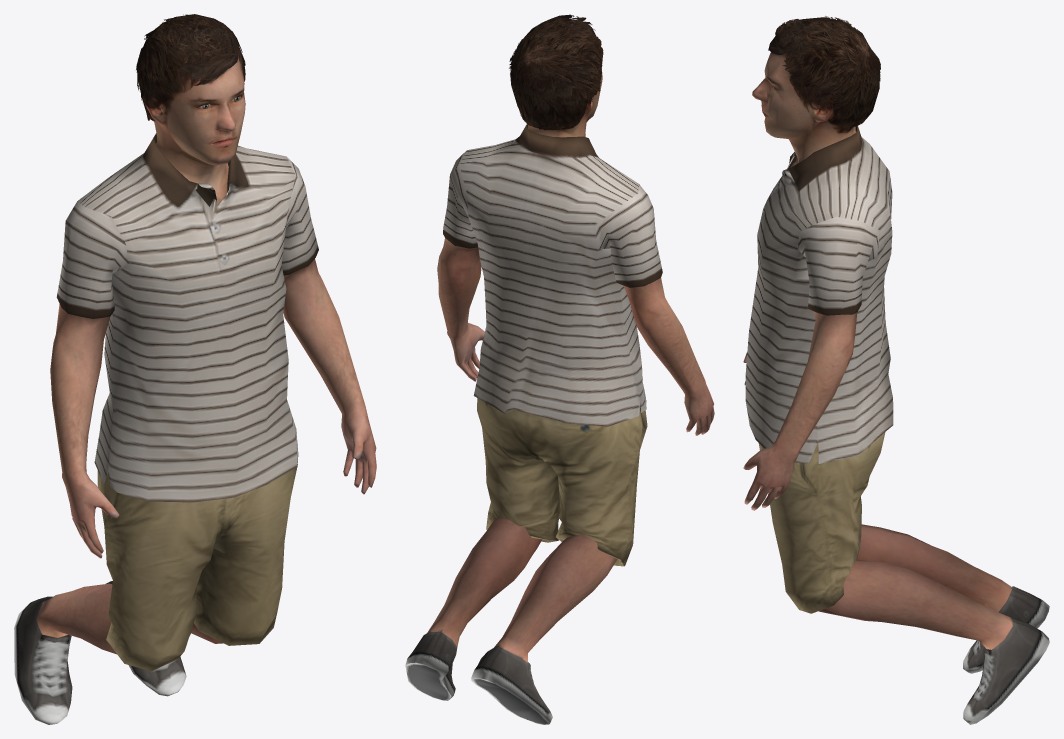
Rendered from rocketbox-m.glb.
3 renders of one model, left to right at view 1: azimuth 30°, elevation 25°; view 2: azimuth 150°, elevation 25°; view 3: azimuth 270°, elevation 25°, orthographic. The views are drawn at different scales.
Parts seen in each view (by area): view 1: rocketbox-m-walking; view 2: rocketbox-m-walking; view 3: rocketbox-m-walking.
Boxes of the visible parts, x1,y1,x2,y2 form: rocketbox-m-walking: [14, 14, 376, 724]; rocketbox-m-walking: [405, 14, 714, 724]; rocketbox-m-walking: [743, 16, 1049, 724].
Size of the model in its own units: 0.6341 by 1.54 by 0.6286.
1 material, 1 textured.
